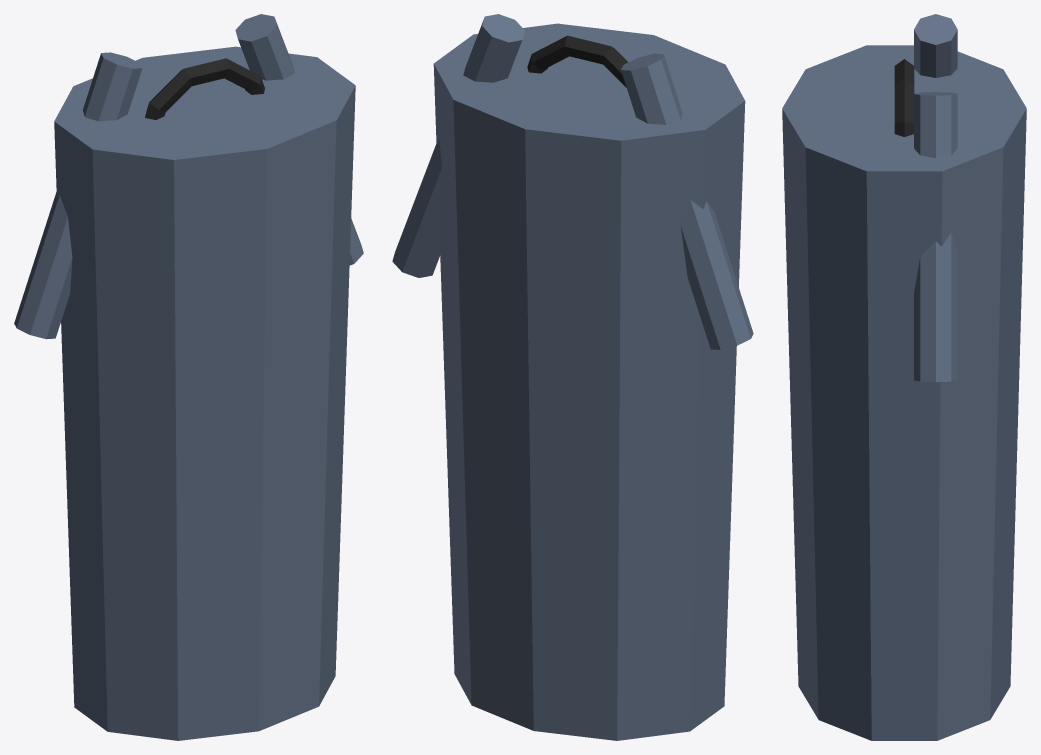
The model's file is robe.glb.
The picture shows the model from 3 angles, left to right: view 1: azimuth 30°, elevation 25°; view 2: azimuth 150°, elevation 25°; view 3: azimuth 270°, elevation 25°; orthographic projection. The views are drawn at different scales.
Visible parts, largest first — view 1: robe; view 2: robe; view 3: robe.
Boxes of the visible parts, x1=… form: robe: x1=14, y1=14, x2=363, y2=740; robe: x1=392, y1=14, x2=753, y2=740; robe: x1=782, y1=14, x2=1026, y2=740.
Size of the model in its own units: 0.7475 by 1.33 by 0.468.
